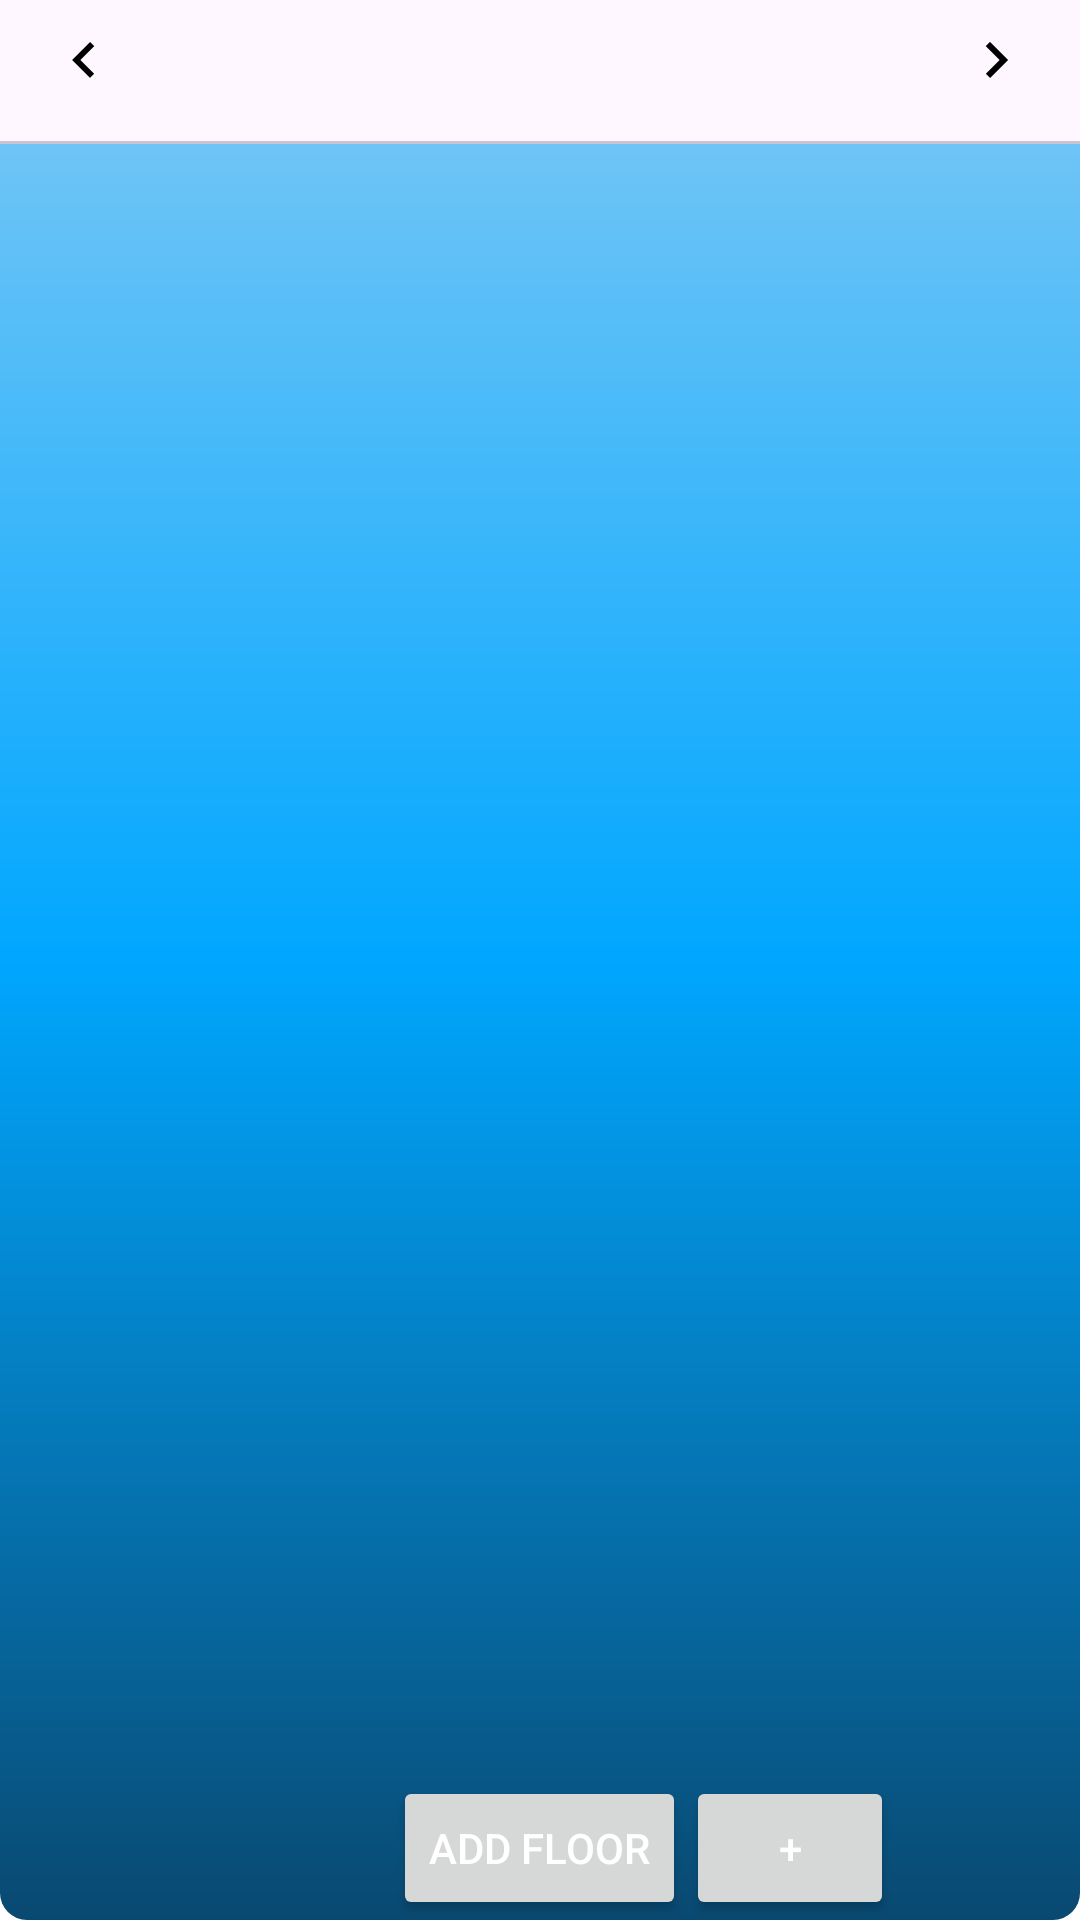

Where icons sit on this 1080*1920 app screen, as (x1, y1, x2, y2):
arrow left: (72, 42, 94, 78)
arrow right: (986, 42, 1008, 78)
